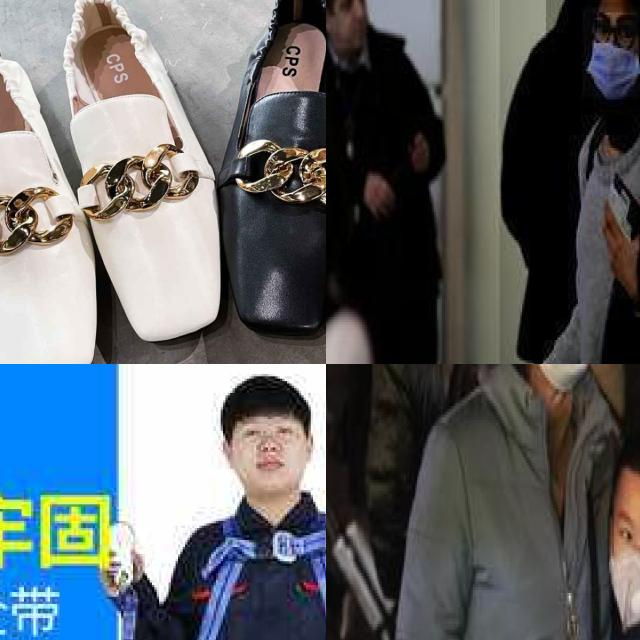Harness: (182, 504, 326, 640)
No_Glasses: (236, 417, 302, 448)
Sandals: (0, 0, 230, 364), (199, 0, 326, 364)
face_mask: (582, 7, 640, 99), (605, 502, 640, 629)
face_nomask: (331, 0, 368, 50)
hand_noglove: (599, 197, 640, 277), (358, 165, 398, 221)
head_nohelmet: (614, 420, 640, 505)
person: (425, 364, 640, 640), (499, 0, 640, 364), (326, 0, 459, 364), (546, 0, 640, 364), (585, 423, 640, 640)
